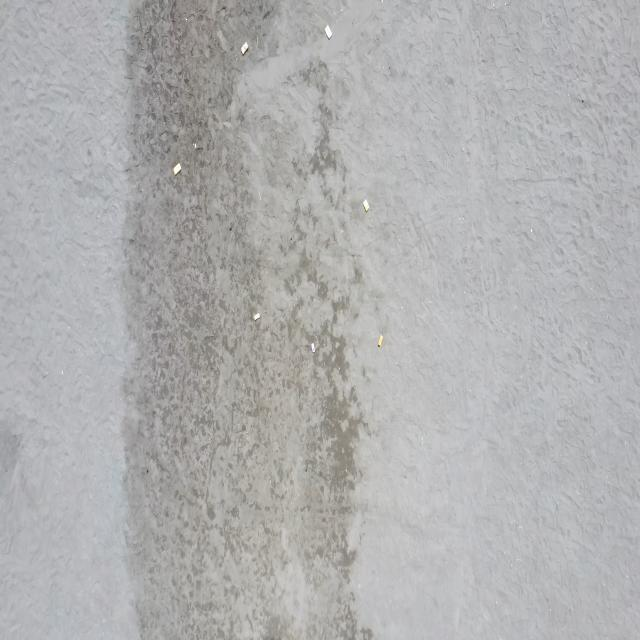Garbage: (324, 24, 332, 37), (172, 163, 180, 175), (240, 42, 247, 55), (376, 335, 383, 347), (362, 199, 368, 212), (193, 141, 201, 148), (253, 312, 260, 320), (312, 343, 315, 352)
